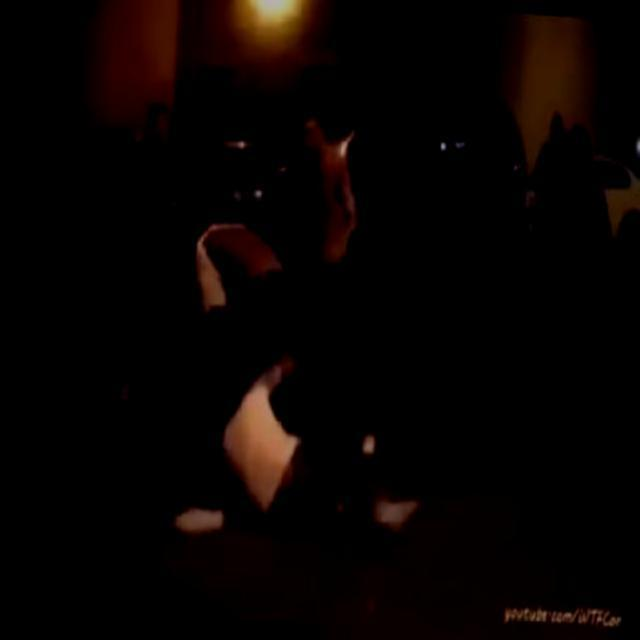fight: (167, 210, 316, 508)
